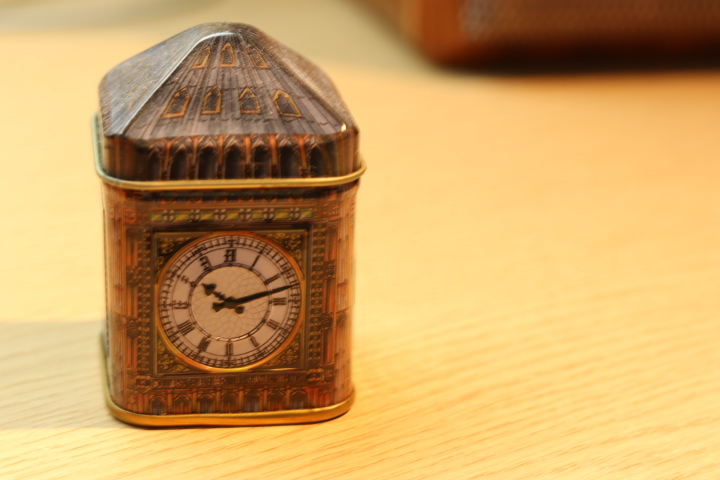Big Ben: (75, 16, 372, 439)
